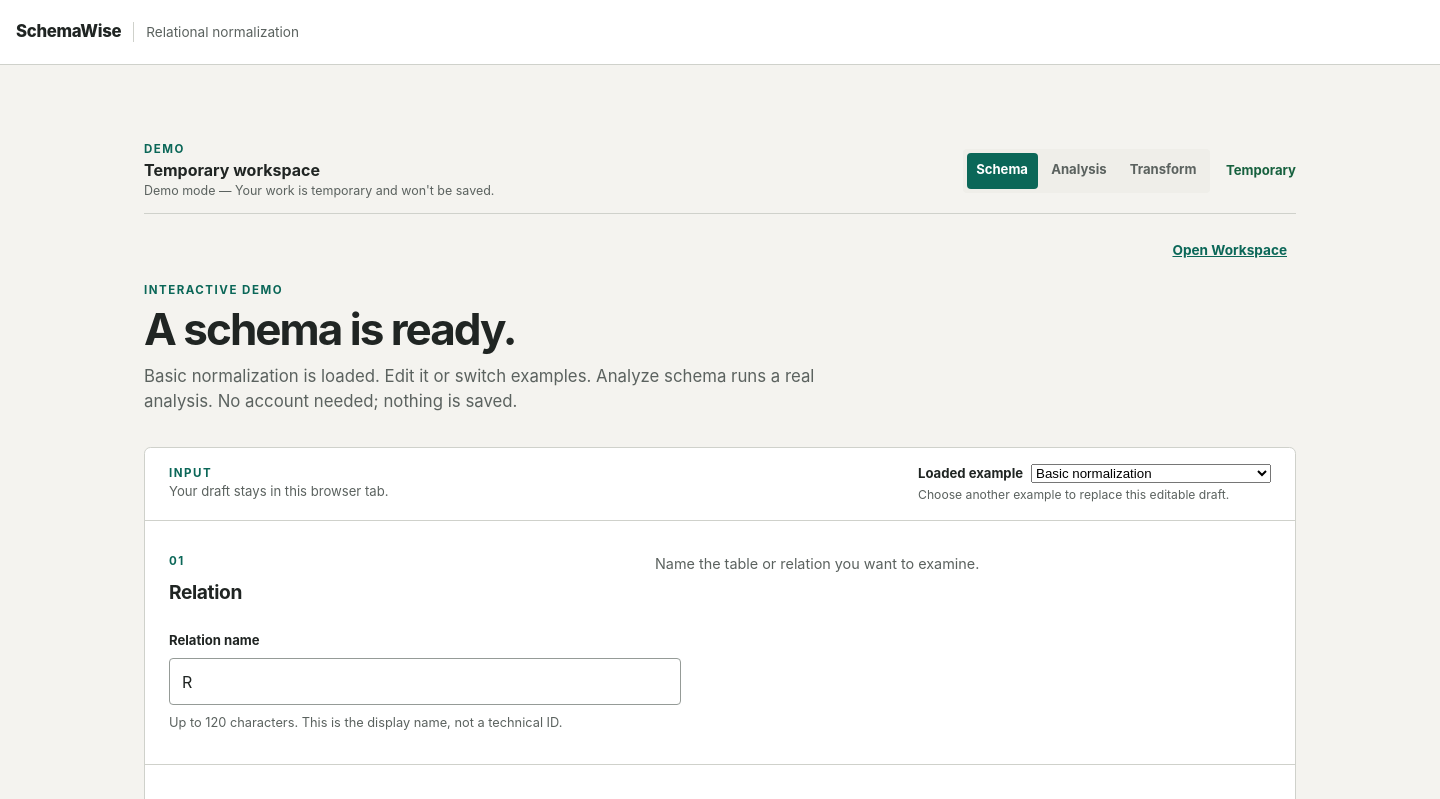
it: isolated demo route › replaces a clean example immediately and lets a user start from scratch without network activity
Select "Composite key" in the dropdown labelled "example" at (1151, 473), box [1031,464,1271,483]
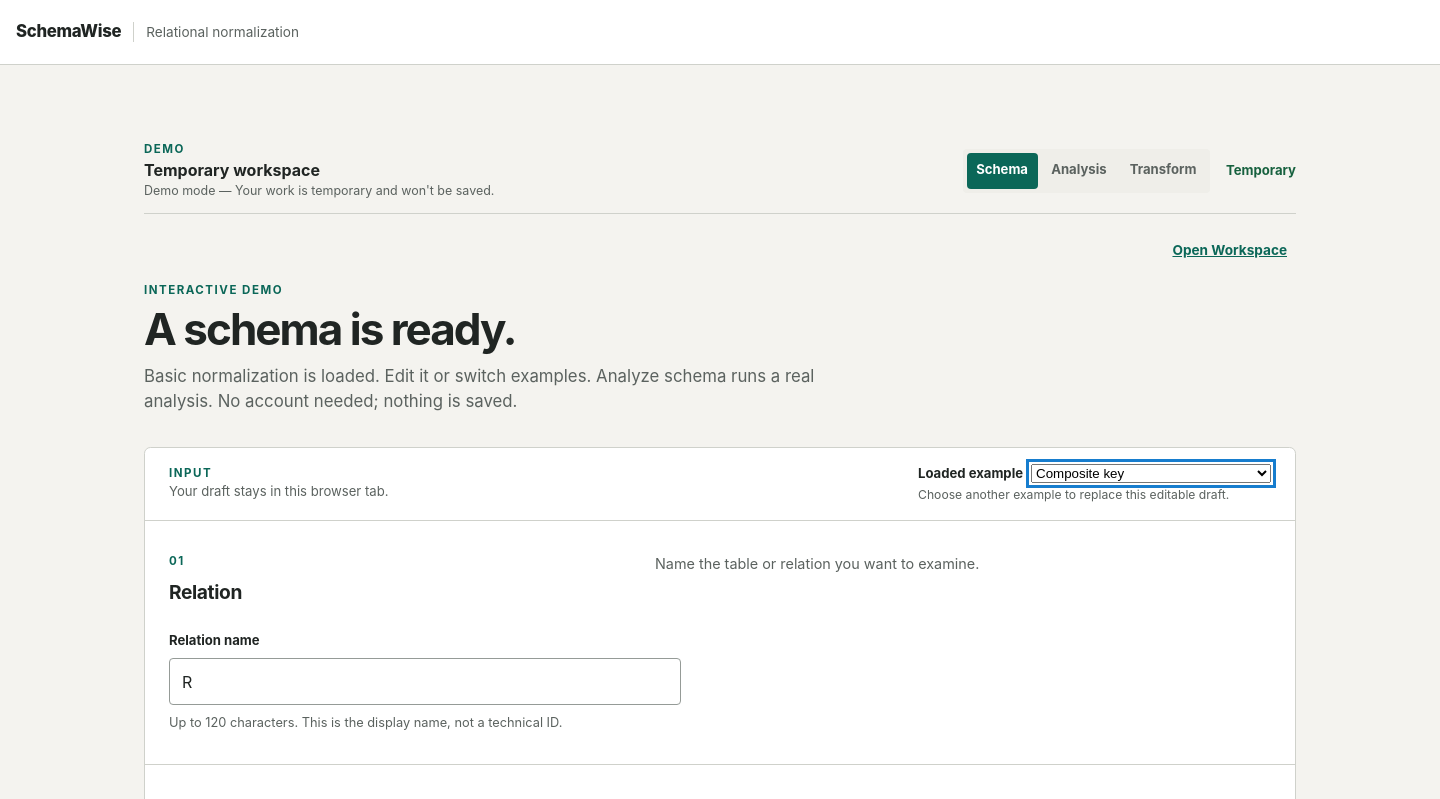
Expected: the field labelled "Relation name" holds "R", [169,658,681,705]
Expected: the text "Choose another example to replace this editable draft." is shown, [918,487,1271,504]
Select "Start from scratch" in the dropdown labelled "example" at (1151, 473), box [1031,464,1271,483]
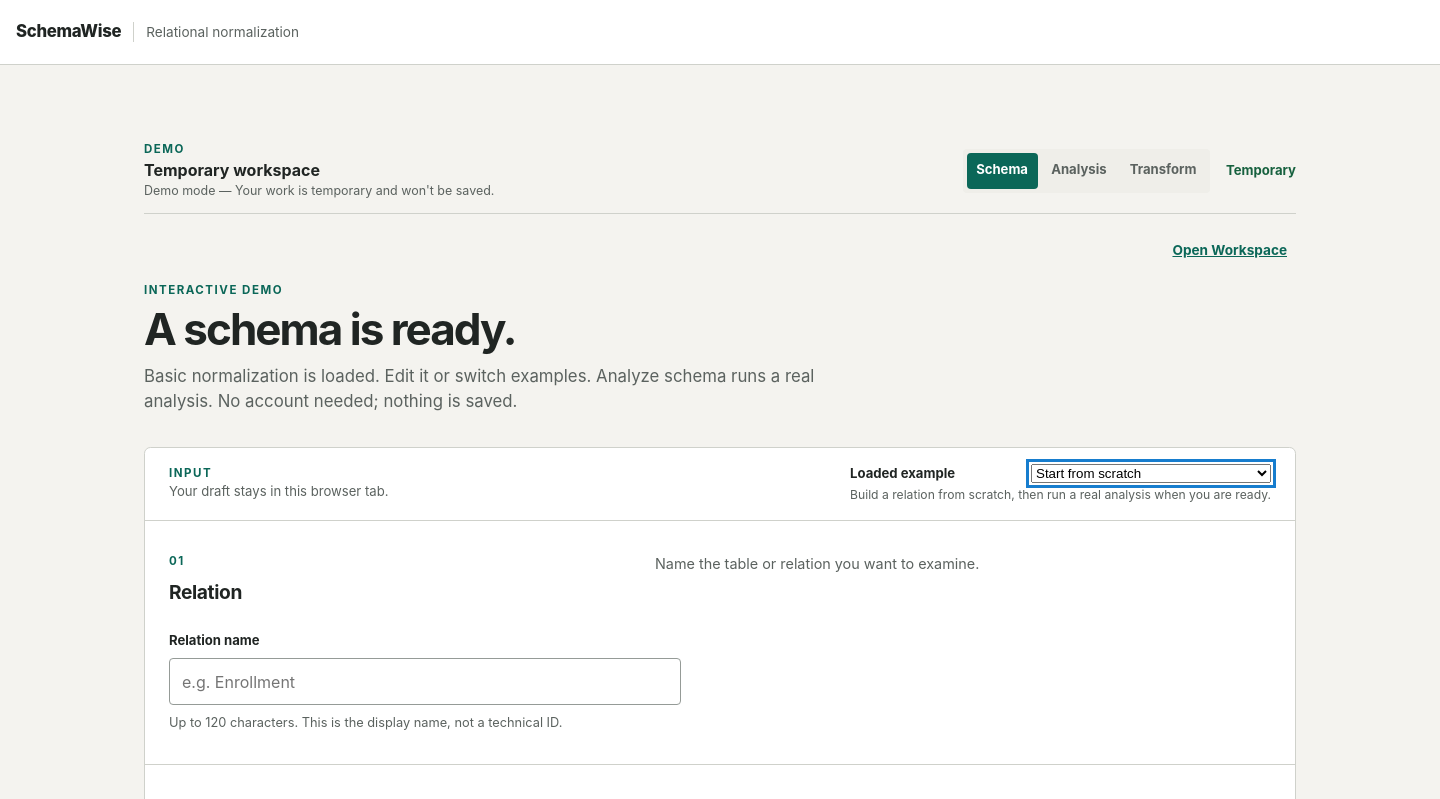
Expected: the field labelled "Relation name" is empty, [169,658,681,705]
Expected: the text "Build a relation from scratch, then run a real analysis when you are ready." is shown, [850,487,1271,504]
